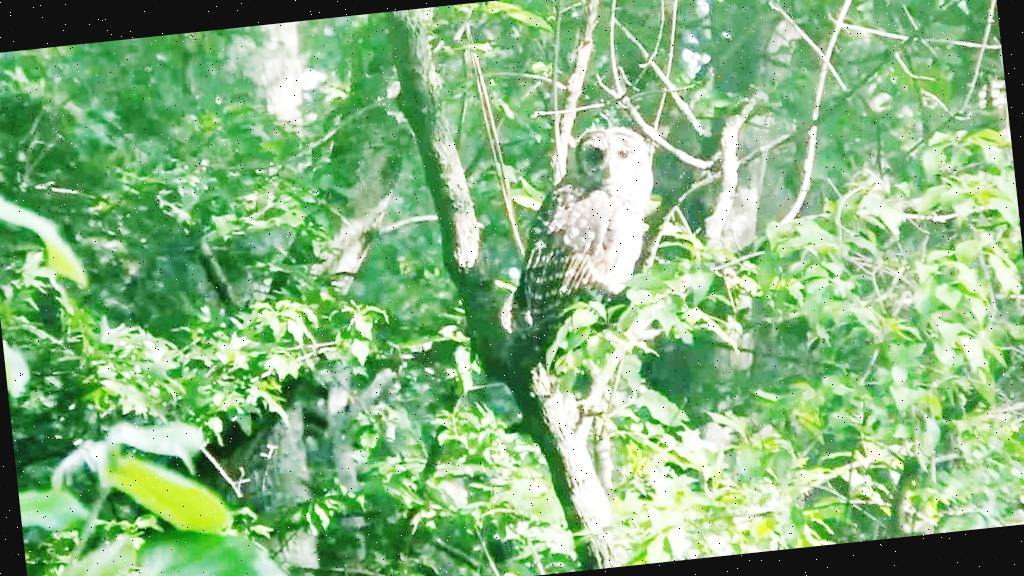Owl: (503, 124, 681, 334)
